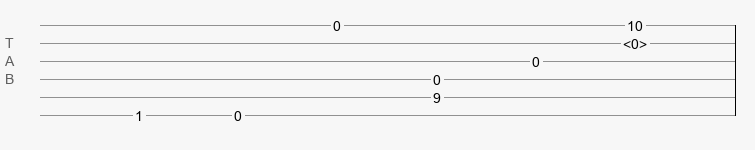0: (234, 108, 242, 118), (333, 18, 341, 28), (433, 72, 441, 82), (532, 54, 540, 64)
1: (135, 108, 143, 118)
10: (627, 18, 643, 28)
9: (433, 90, 441, 100)
harmonic: (623, 36, 647, 46)
